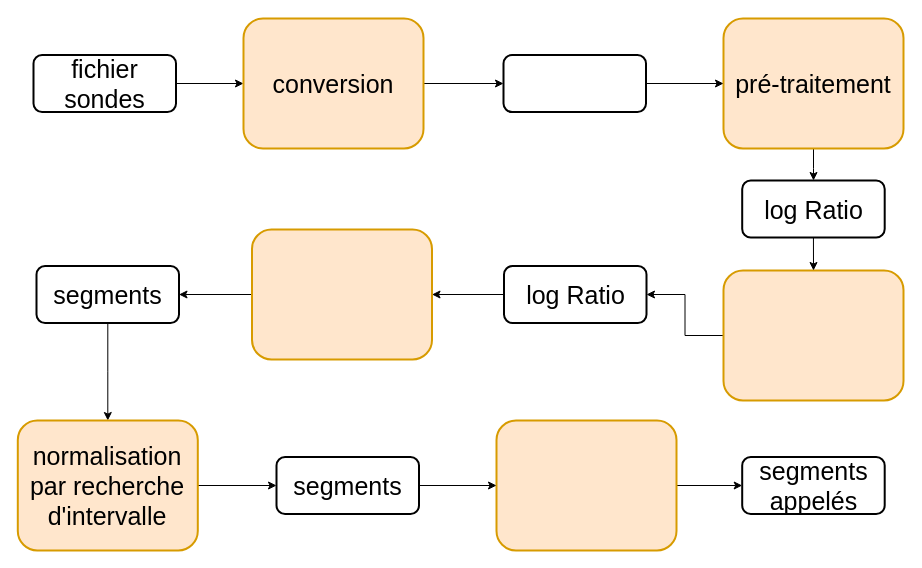
The diagram is 922 pixels wide and 568 high, and some of its shapes have lost their labels. The centre of each missing label's shape, as x and y in pixels:
calling par modèle de mélange: pixel 586 485
log Ratio brut: pixel 574 83
normalisation & lissage: pixel 813 335
segmentation CBS: pixel 341 294
